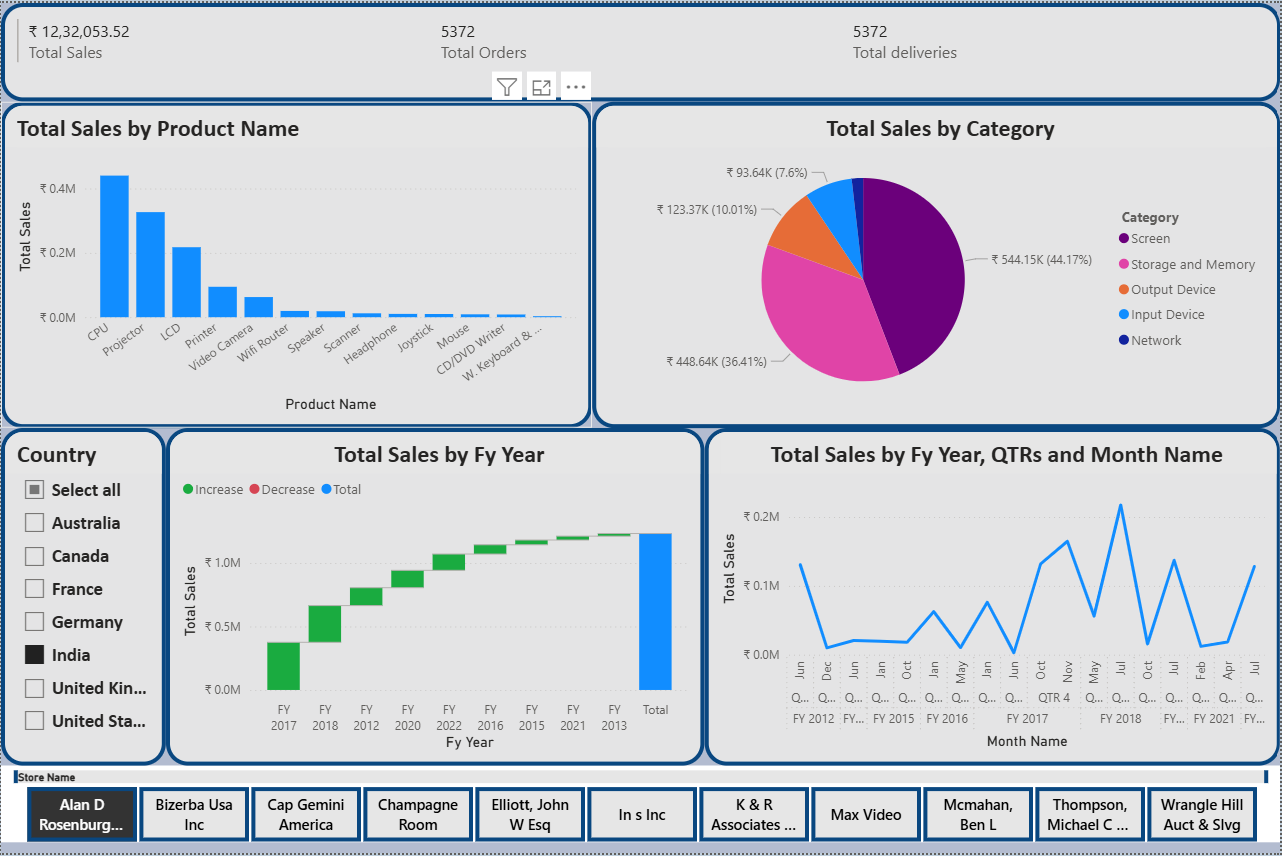

The page's visual inventory and layout, read from the dashboard file:
{"tool":"powerbi","page":{"name":"Sales Analysis","canvas":[1280,850],"ordinal":1},"visuals":[{"type":"slicer","fields":{"Values":["Store.Store Name"]},"box":[0,762.9,1280,77.1],"z":0},{"type":"slicer","title":"Country","fields":{"Values":["Sales Regions.Geo hierarchy.Country"]},"box":[0,425,165,337.5],"z":1000},{"type":"multiRowCard","fields":{"Values":["MyDax Table.Total Sales","MyDax Table.Total Orders","MyDax Table.Total deliveries"]},"box":[0,0,1280,98.8],"z":2000},{"type":"clusteredColumnChart","fields":{"Category":["Product Details. Product Name "],"Y":["MyDax Table.Total Sales"]},"box":[0,98.8,591.2,326.2],"z":3000},{"type":"pieChart","fields":{"Category":["Product Details. Category "],"Y":["MyDax Table.Total Sales"]},"box":[591.2,98.8,688.8,326.2],"z":4000},{"type":"waterfallChart","fields":{"Y":["MyDax Table.Total Sales"],"Category":["Calendar table.Date Hierarchy.Fy Year"]},"box":[165,425,538.8,337.5],"z":5000},{"type":"lineChart","fields":{"Y":["MyDax Table.Total Sales"],"Category":["Calendar table.Date Hierarchy.Fy Year","Calendar table.Date Hierarchy.QTRs","Calendar table.Date Hierarchy.Month Name"]},"box":[703.8,425,576.2,337.5],"z":6000}]}

Visuals, with their boxes in screenshot pixels (x1, y1, x2, y2), scaled from the page's 1280x850 canvas onto the 1282x856 screenshot:
slicer - Store.Store Name: pyautogui.locateOnScreen(0, 768, 1281, 846)
"Country" slicer: pyautogui.locateOnScreen(0, 428, 165, 768)
multiRowCard - MyDax Table.Total Sales x MyDax Table.Total Orders: pyautogui.locateOnScreen(0, 0, 1281, 99)
clusteredColumnChart - Product Details. Product Name  x MyDax Table.Total Sales: pyautogui.locateOnScreen(0, 99, 592, 428)
pieChart - Product Details. Category  x MyDax Table.Total Sales: pyautogui.locateOnScreen(592, 99, 1281, 428)
waterfallChart - MyDax Table.Total Sales x Calendar table.Date Hierarchy.Fy Year: pyautogui.locateOnScreen(165, 428, 705, 768)
lineChart - MyDax Table.Total Sales x Calendar table.Date Hierarchy.Fy Year: pyautogui.locateOnScreen(705, 428, 1281, 768)
